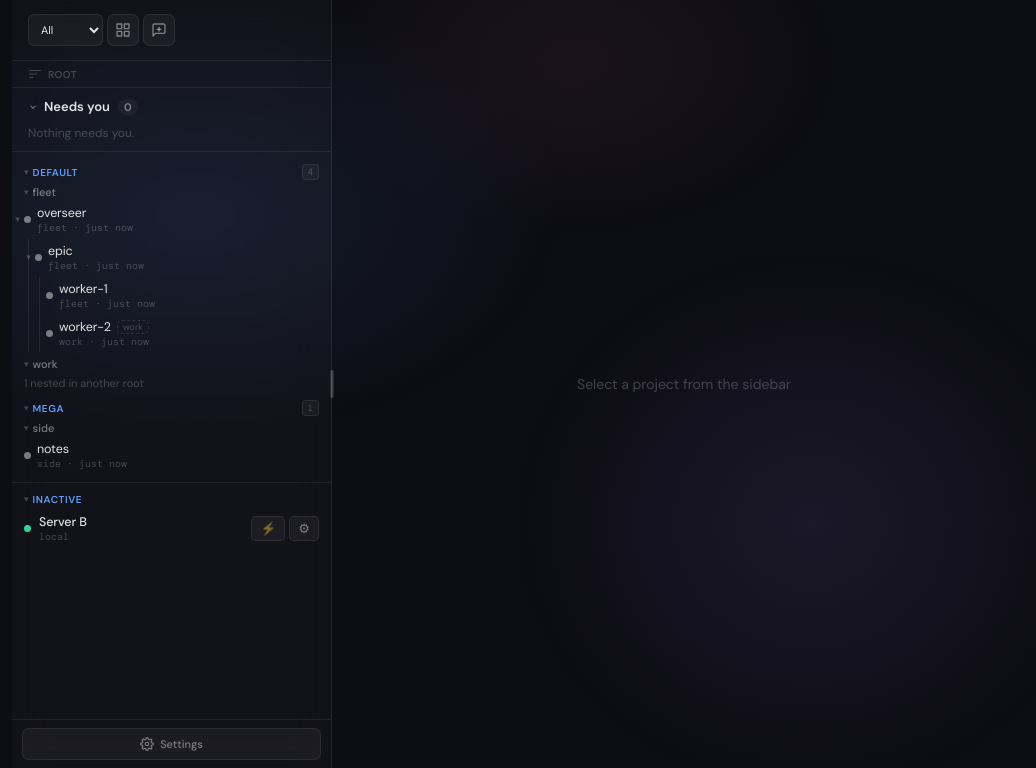
Test: folds the inactive servers to their count
What coordinates should you click on to do the following:
click the button with class "group-fold-toggle" showing "▾ Inactive"
I would click on:
 (53, 500)
Its box is [24,493,82,506].
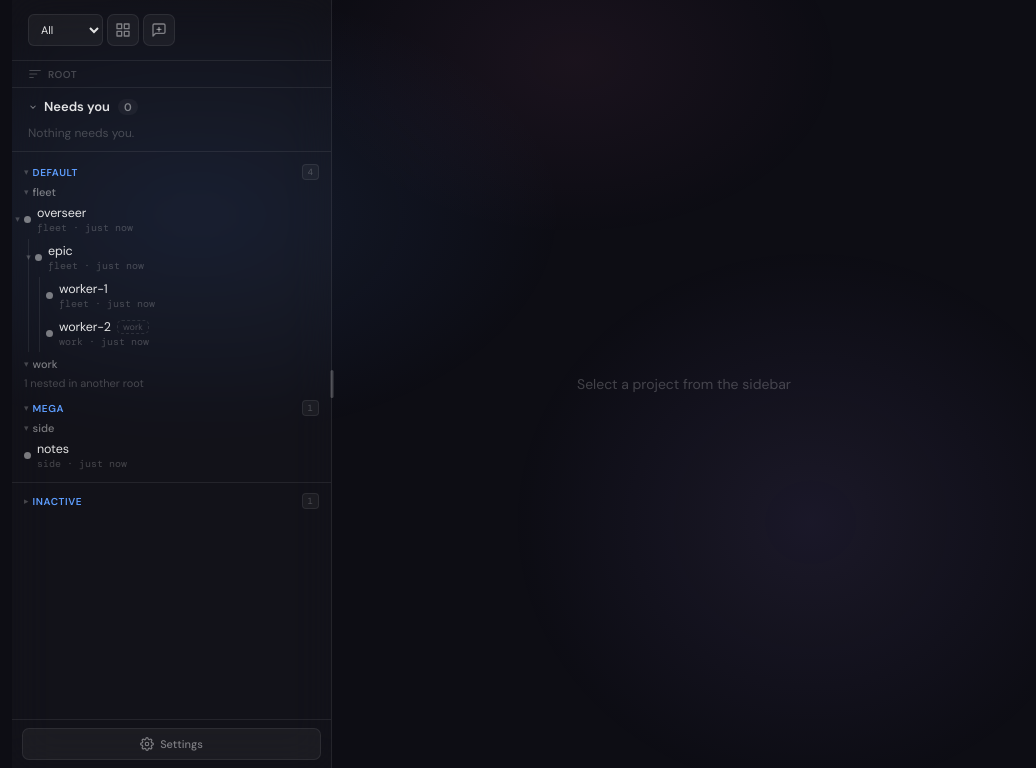
Now the 2nd text "1" is shown, box [302,493,319,509]
